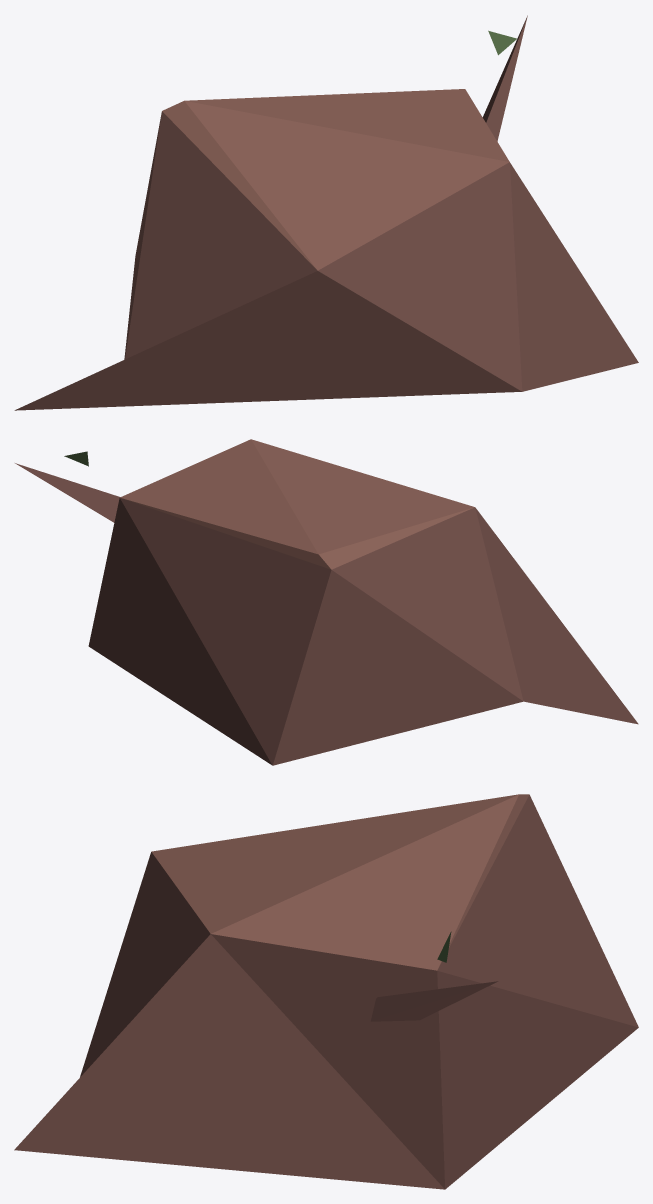
Rendered from TreeStump.lod3.glb.
3 renders of one model, top to bottom at view 1: azimuth 30°, elevation 25°; view 2: azimuth 150°, elevation 25°; view 3: azimuth 270°, elevation 25°, orthographic. The views are drawn at different scales.
Visible parts, largest first — view 1: TreeStump; view 2: TreeStump; view 3: TreeStump.
Boxes of the visible parts, bbox=[...] form: TreeStump: bbox=[14, 15, 638, 410]; TreeStump: bbox=[15, 439, 638, 765]; TreeStump: bbox=[14, 794, 638, 1189].
Size of the model in its own units: 1.27 by 0.4424 by 0.9537.
